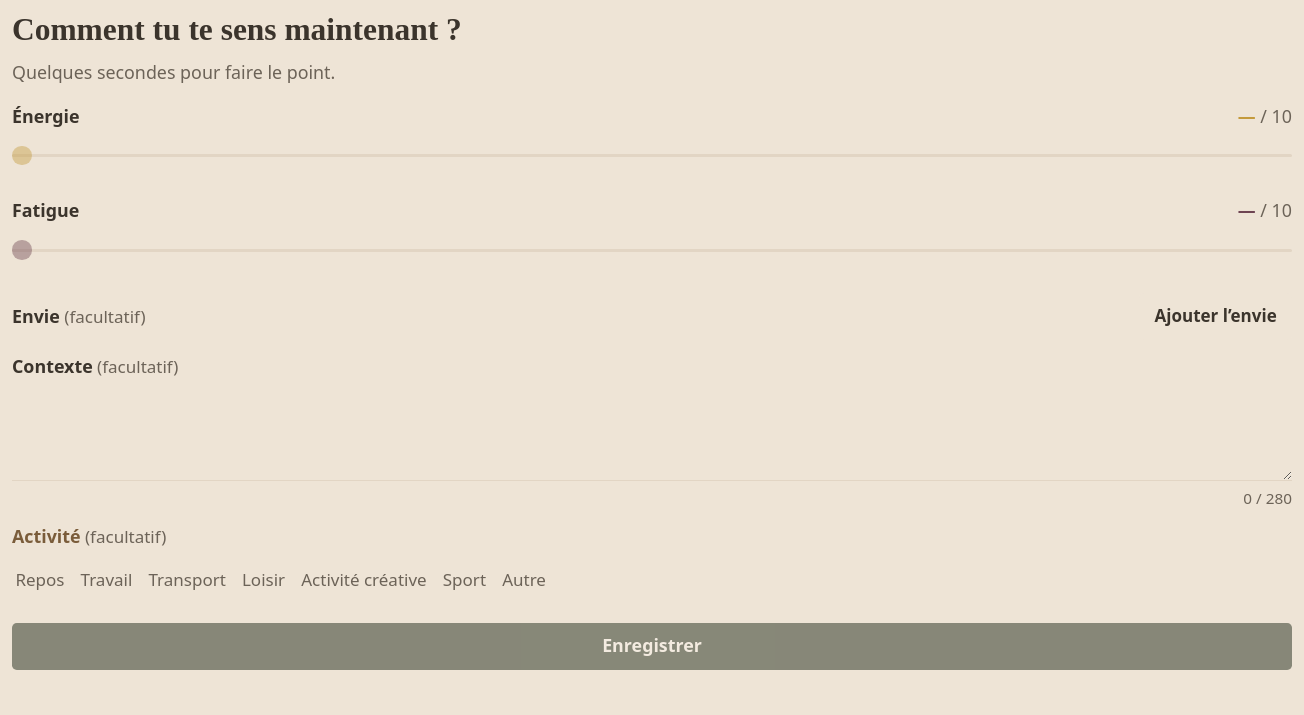
it: LogPage › on peut ajouter puis retirer l’envie
The width and height of the screenshot is (1304, 715).
Click the button "Ajouter l’envie".
click(1216, 317)  # box x1=1139 y1=293 x2=1292 y2=340
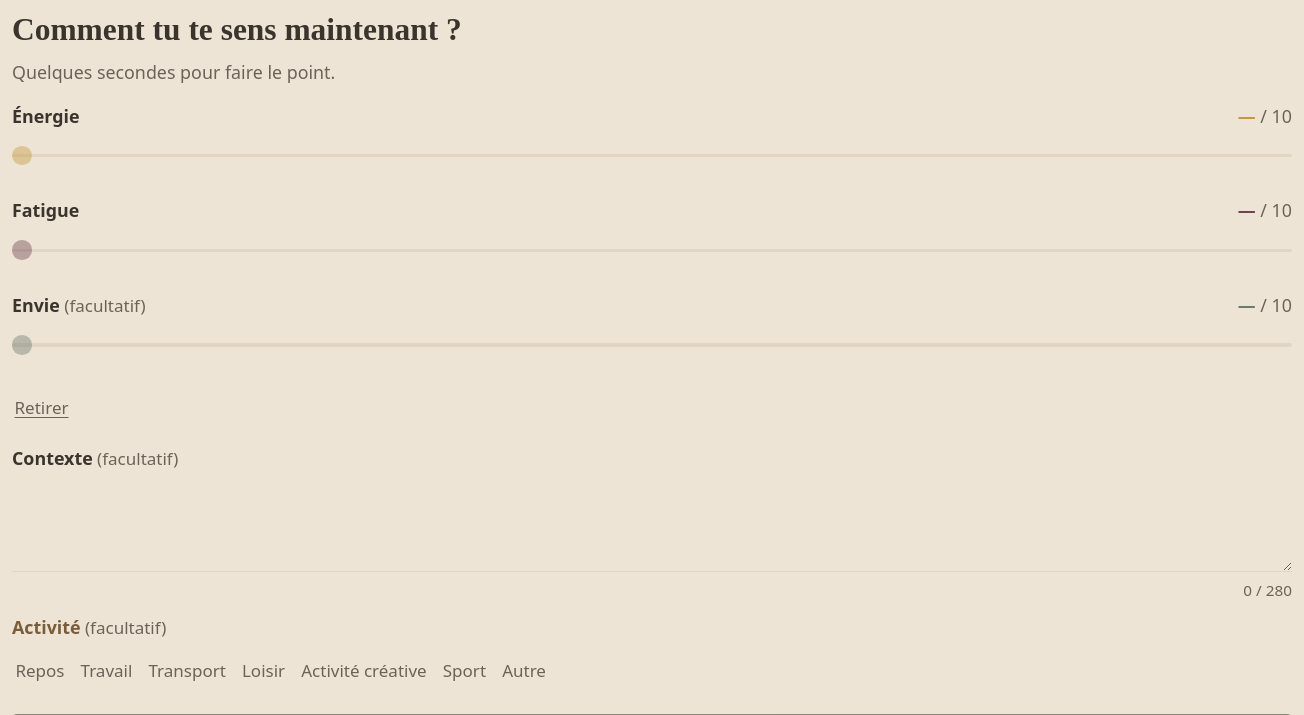
Check: the slider labelled "Envie (facultatif)" is shown, box x1=12 y1=322 x2=1292 y2=368
Check: the text "—" is shown 3 times, box x1=1238 y1=104 x2=1256 y2=128; x1=1238 y1=198 x2=1256 y2=222; x1=1238 y1=293 x2=1256 y2=317
Click the button "Retirer".
click(42, 408)  # box x1=12 y1=384 x2=71 y2=431
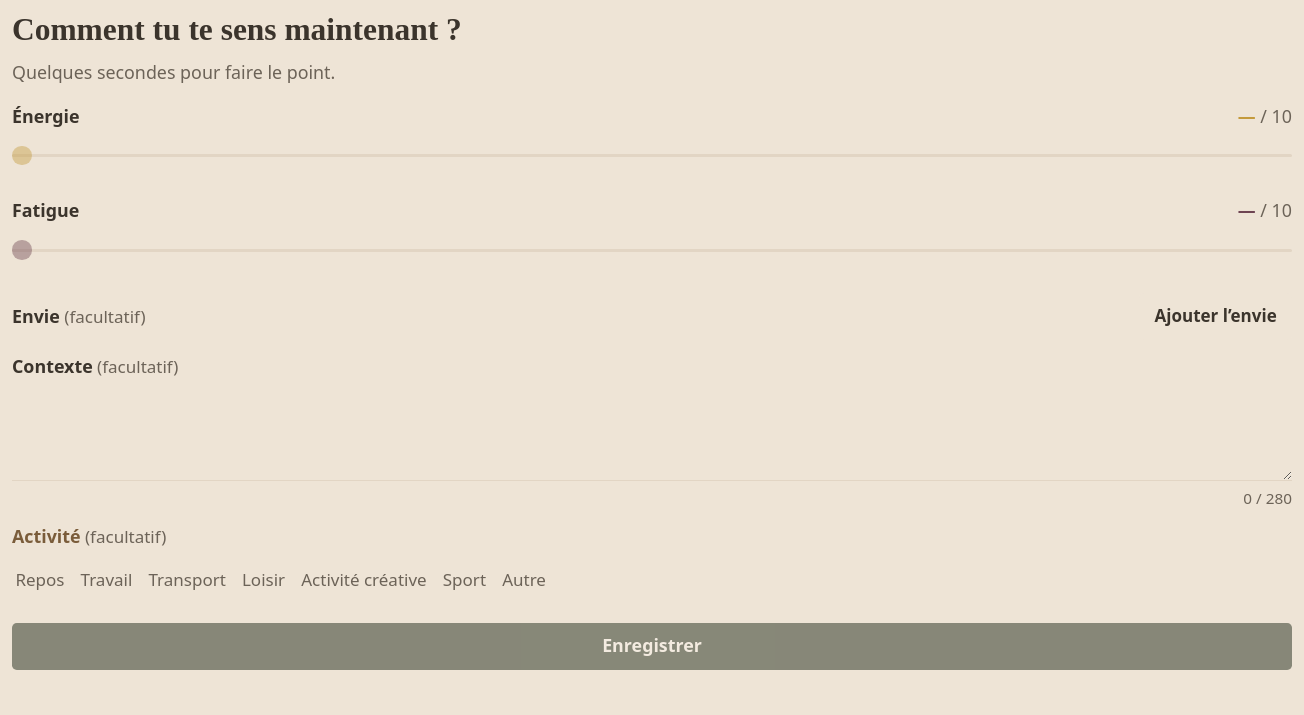
Check: the button "Ajouter l’envie" is shown, box x1=1139 y1=293 x2=1292 y2=340
